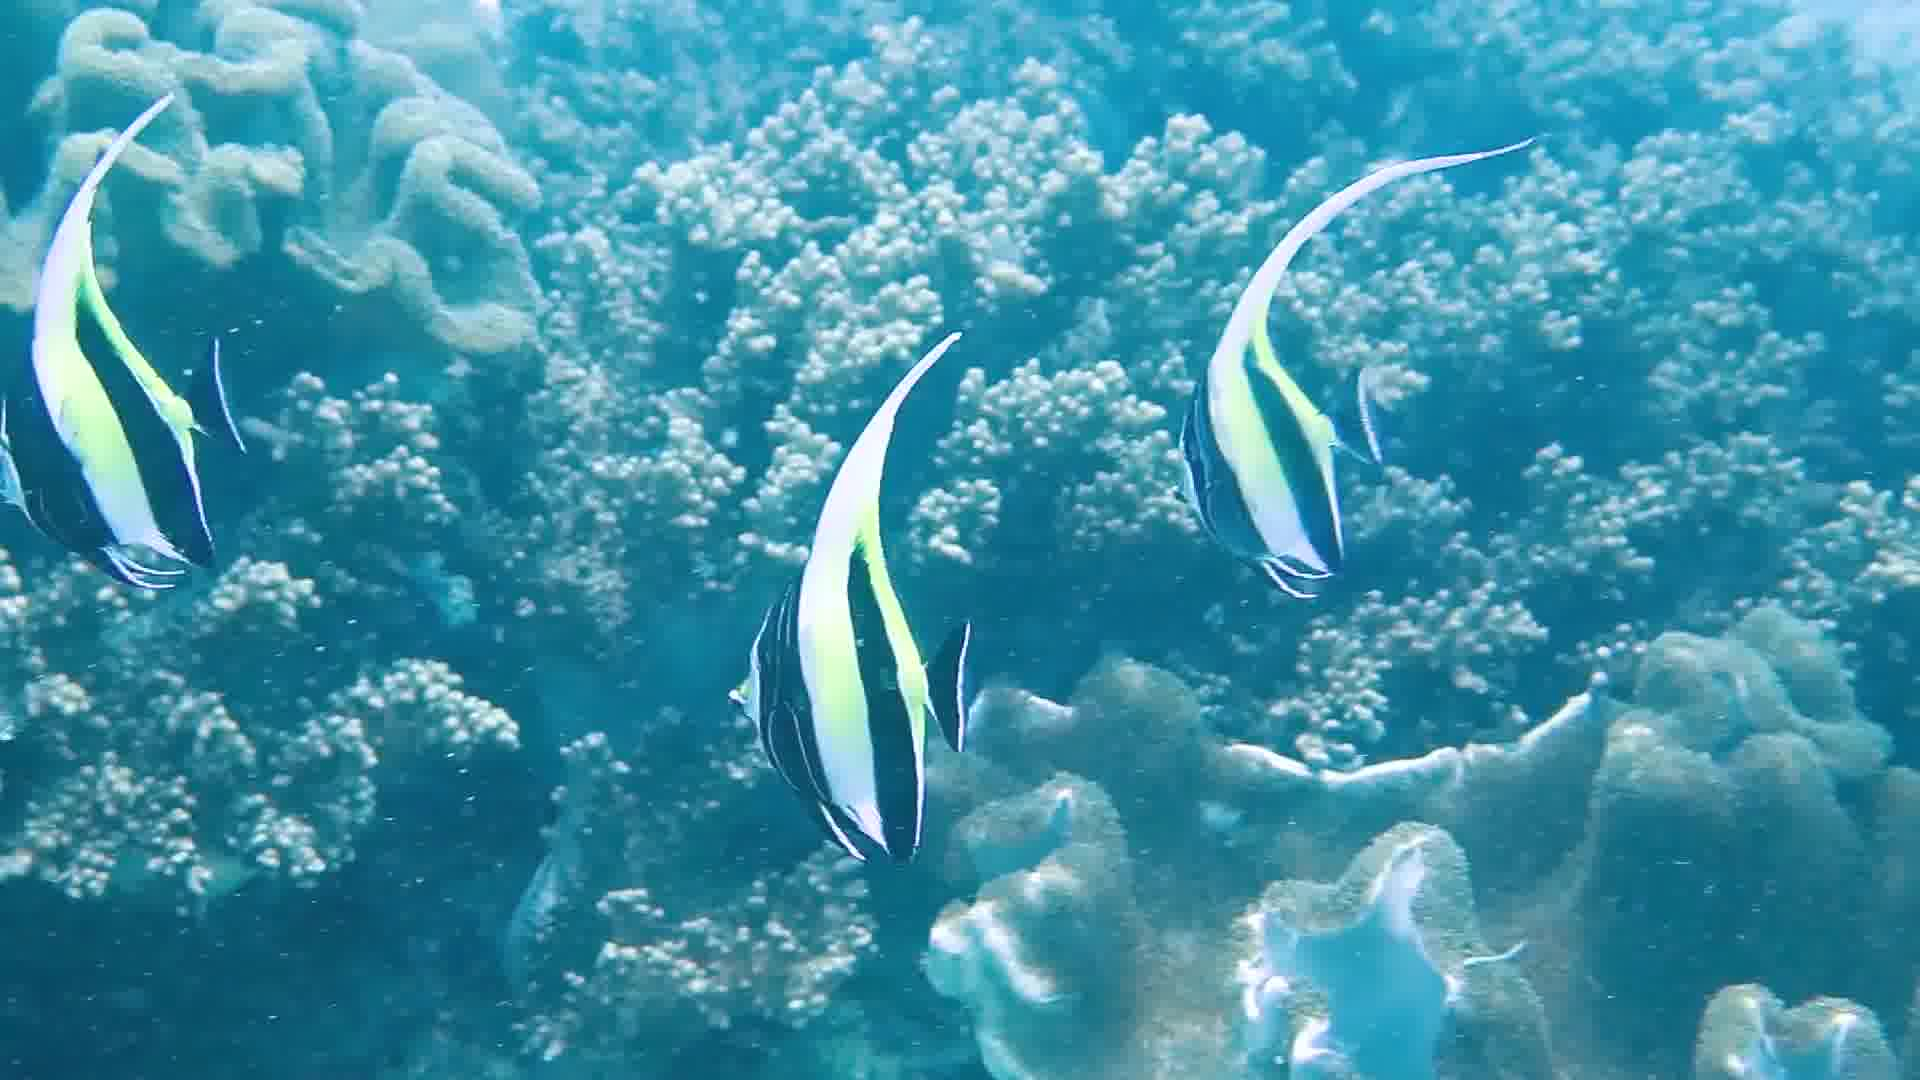Zanclus cornutus: (698, 435, 1010, 894), (1141, 272, 1436, 595), (9, 245, 272, 585)
